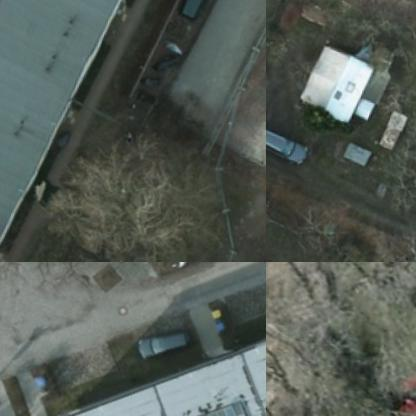car: (138, 316, 198, 368), (266, 118, 318, 171), (389, 365, 415, 415), (175, 0, 220, 22)
